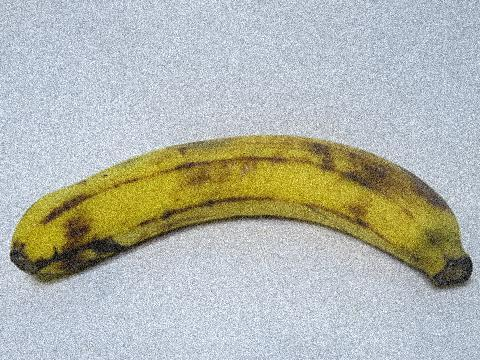overripe: (5, 127, 479, 306)
